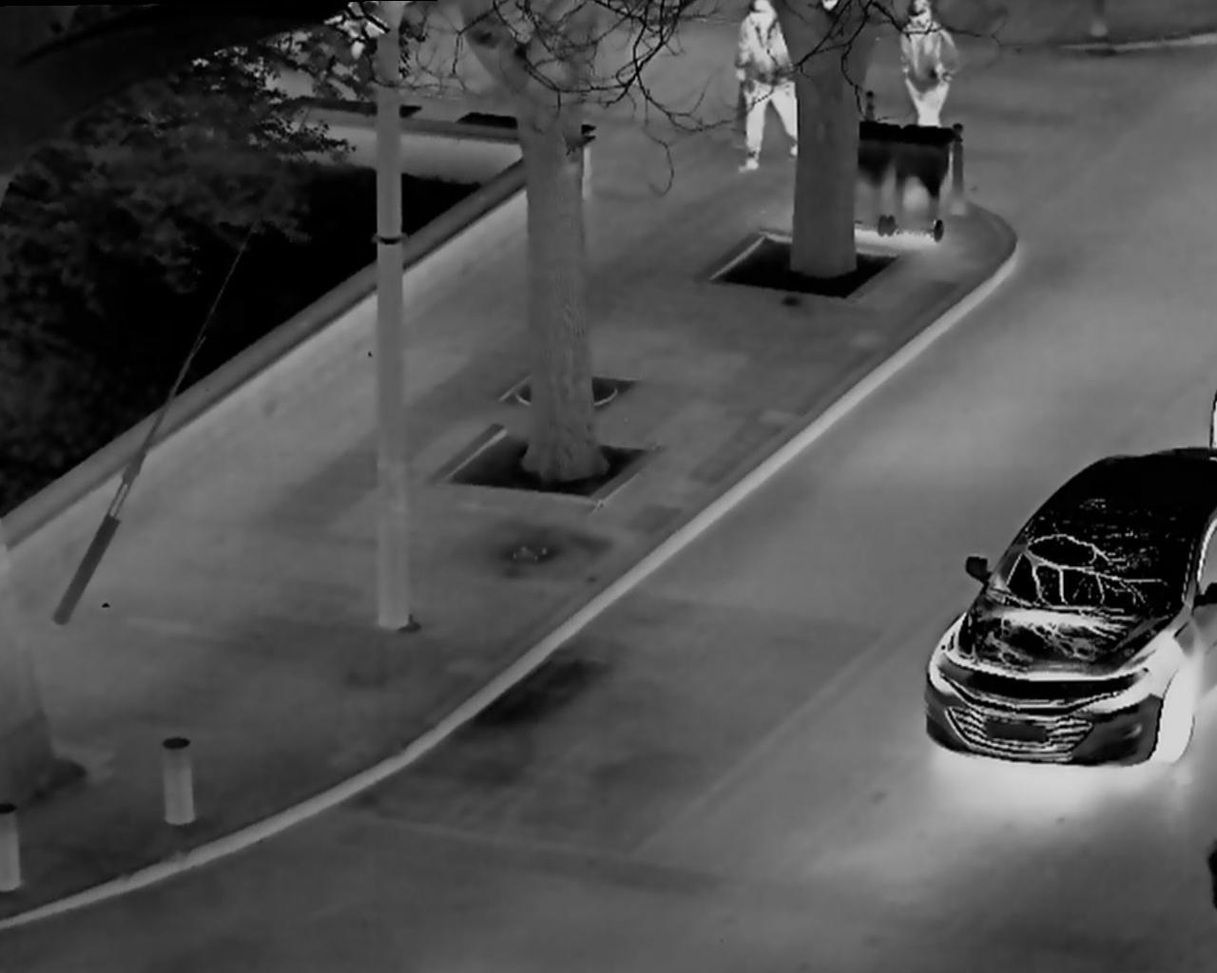person: (736, 5, 802, 182)
